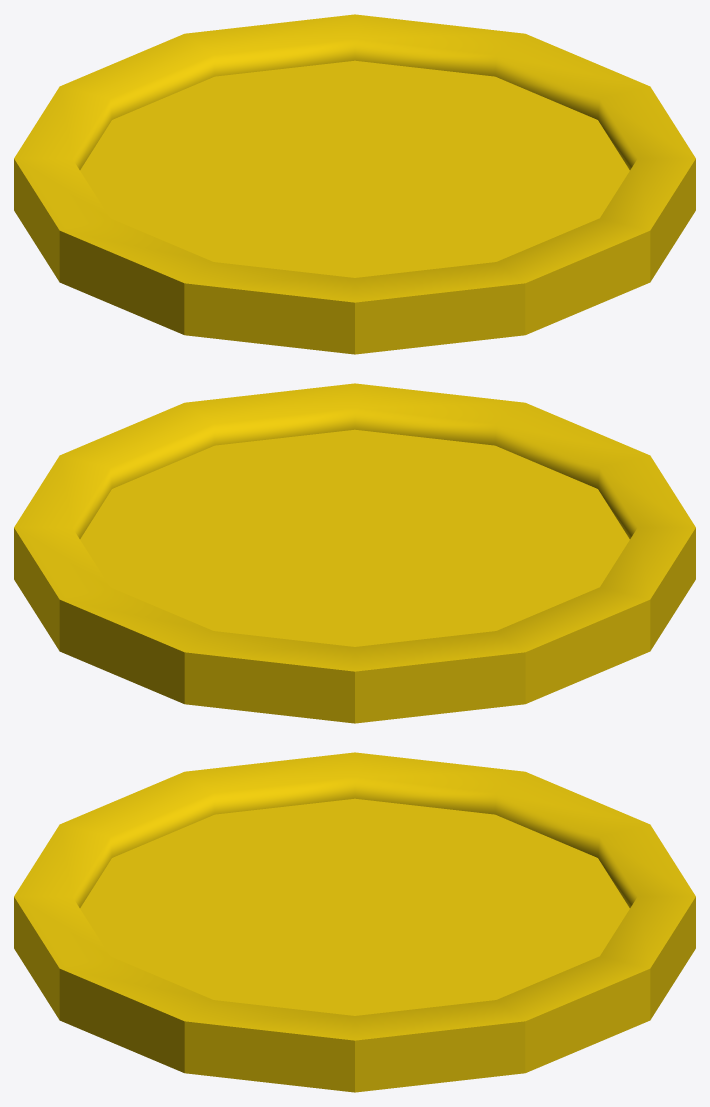
The model's file is Coin 1.fbx.
3 renders of one model, top to bottom at view 1: azimuth 30°, elevation 25°; view 2: azimuth 150°, elevation 25°; view 3: azimuth 270°, elevation 25°, orthographic.
Visible parts, largest first — view 1: Coin_1; view 2: Coin_1; view 3: Coin_1.
Part boxes in pixels (x1=…): Coin_1: x1=14, y1=14, x2=695, y2=354; Coin_1: x1=14, y1=383, x2=695, y2=723; Coin_1: x1=14, y1=752, x2=695, y2=1092.
Size of the model in its own units: 25.91 by 2.18 by 25.91.
1 material, 1 textured.
